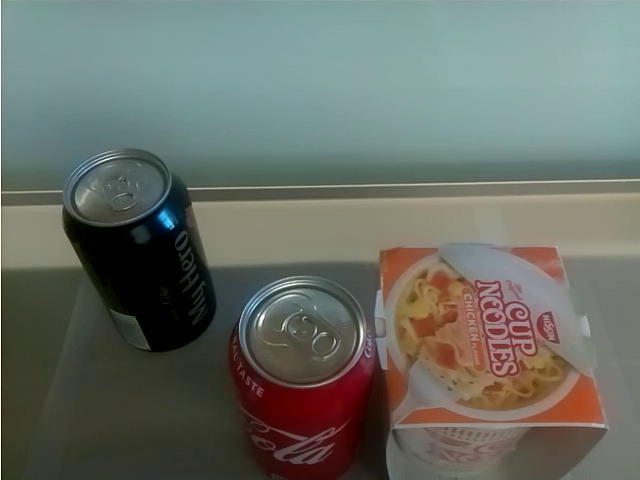cocacola: (231, 273, 369, 480)
cocacola-zero: (58, 150, 220, 358)
noodles: (380, 234, 610, 479)
